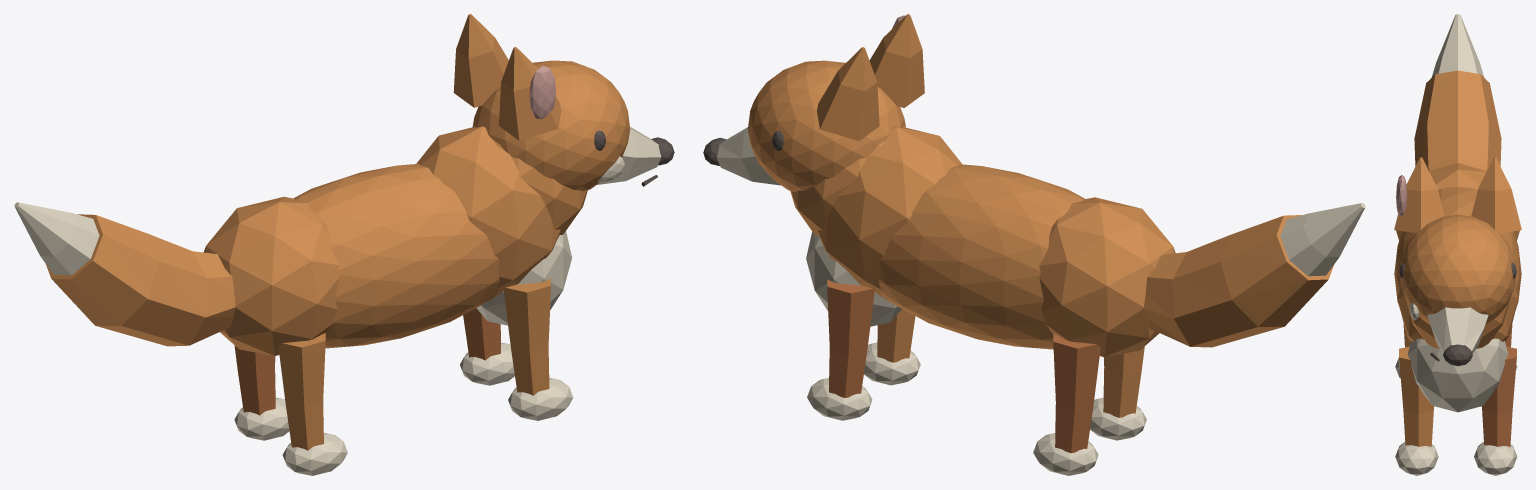
The model's file is fox_b.glb.
3 views of the same model, side by side, from view 1: azimuth 30°, elevation 25°; view 2: azimuth 150°, elevation 25°; view 3: azimuth 270°, elevation 25° (orthographic). The views are drawn at different scales.
Parts seen in each view (by area): view 1: body, rump, tail_orange, shoulder, head, front_near_leg, rear_near_leg, tail_cream_tip, far_ear, near_ear, chest_bib, rear_far_leg (+8 smaller); view 2: body, rump, tail_orange, shoulder, head, front_far_leg, rear_far_leg, far_ear, tail_cream_tip, near_ear, rear_near_leg, chest_bib (+7 smaller); view 3: head, tail_orange, chest_bib, far_ear, front_far_leg, front_near_leg, near_ear, muzzle, body, tail_cream_tip, rump, front_far_paw (+5 smaller).
Part boxes in pixels (x1,y1,x2,y2): body: (294,164,499,348); rump: (203,196,339,355); tail_orange: (46,214,235,346); shoulder: (416,126,560,295); head: (472,60,630,191); front_near_leg: (503,278,550,395); rear_near_leg: (278,333,325,450); tail_cream_tip: (14,202,99,275); far_ear: (453,14,508,107); near_ear: (499,47,561,140); chest_bib: (476,231,571,325); rear_far_leg: (234,345,275,415); body: (879,164,1084,349); rump: (1039,197,1175,357); tail_orange: (1143,215,1333,347); shoulder: (817,127,961,296); head: (747,60,905,191); front_far_leg: (827,279,874,397); rear_far_leg: (1053,334,1100,453); far_ear: (817,47,879,141); tail_cream_tip: (1280,203,1365,276); near_ear: (869,14,924,107); rear_near_leg: (1103,347,1144,417); chest_bib: (806,232,901,326); head: (1399,214,1516,324); tail_orange: (1414,70,1501,171); chest_bib: (1407,338,1508,412); far_ear: (1471,157,1521,232); front_far_leg: (1481,346,1516,446); front_near_leg: (1399,346,1434,446); near_ear: (1394,157,1444,232); muzzle: (1427,307,1488,353); body: (1394,187,1521,309); tail_cream_tip: (1431,14,1484,77); rump: (1396,163,1519,240); front_far_paw: (1474,441,1517,475).
Bounding box in the file's own units: 3.7 × 2.01 × 0.7634.
